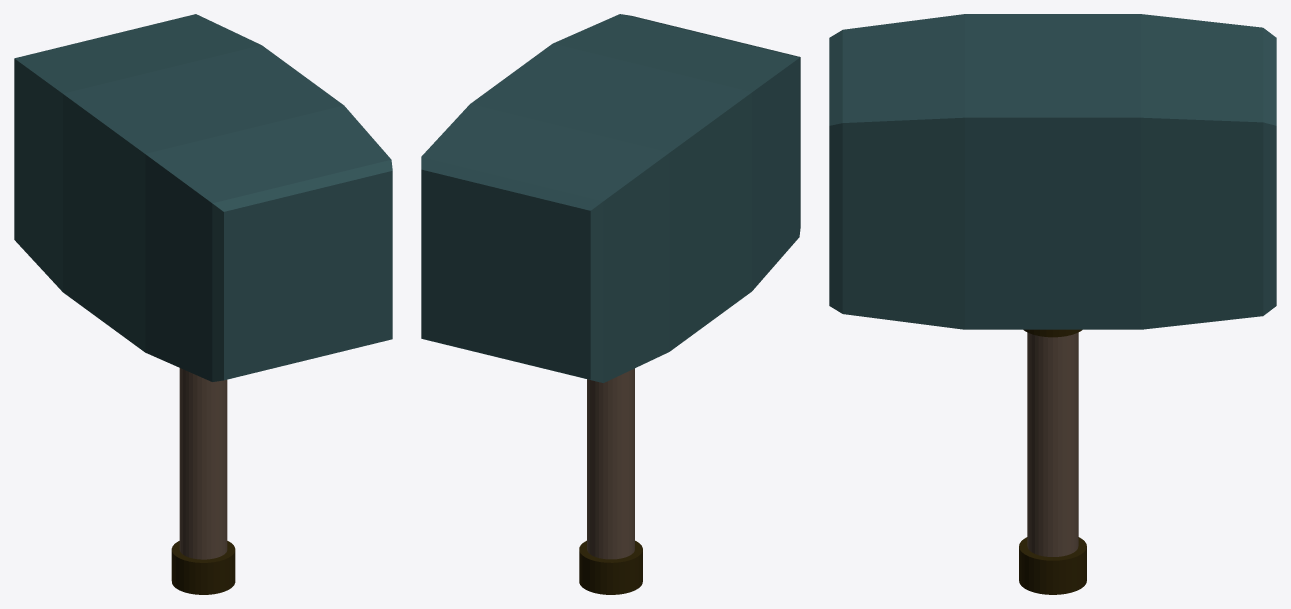
File: cekic.fbx
3 views of the same model, side by side, from view 1: azimuth 30°, elevation 25°; view 2: azimuth 150°, elevation 25°; view 3: azimuth 270°, elevation 25° (orthographic). The views are drawn at different scales.
Parts seen in each view (by area): view 1: Cylinder; view 2: Cylinder; view 3: Cylinder.
Boxes of the visible parts, x1,y1,x2,y2 form: Cylinder: (14, 14, 392, 594); Cylinder: (421, 14, 800, 594); Cylinder: (829, 14, 1276, 594).
Size of the model in its own units: 721 by 1670 by 1316.
